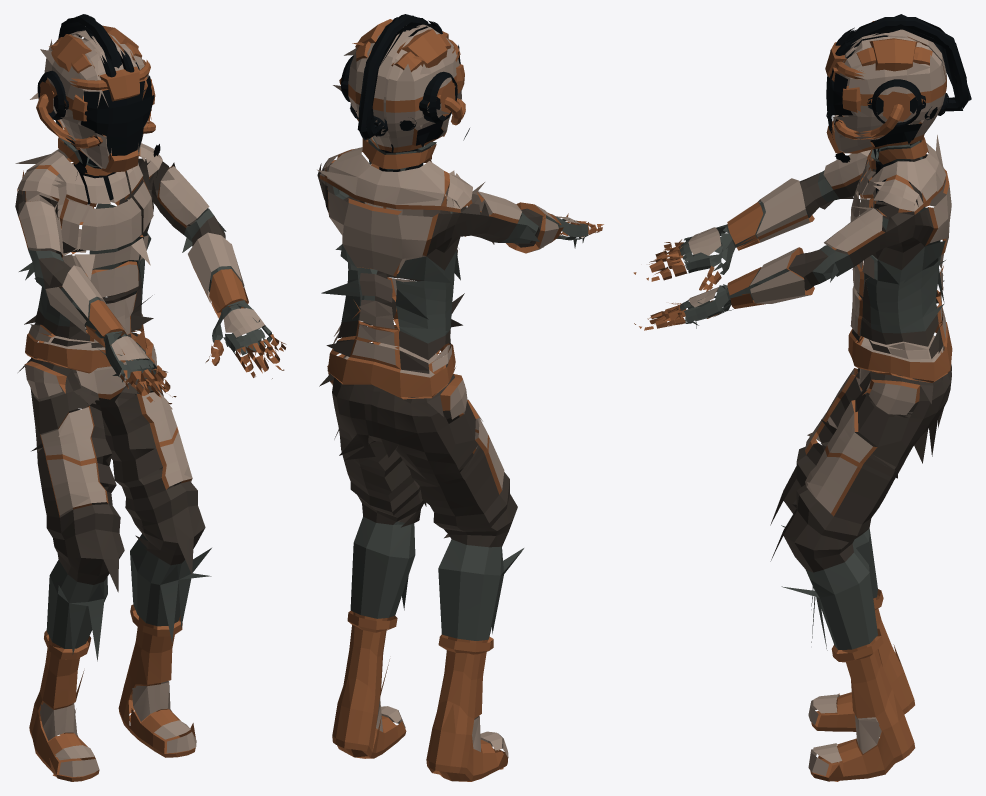
The model's file is frozen-8.glb.
3 renders of one model, left to right at view 1: azimuth 30°, elevation 25°; view 2: azimuth 150°, elevation 25°; view 3: azimuth 270°, elevation 25°, orthographic. The views are drawn at different scales.
Visible parts, largest first — view 1: near, far; view 2: near, far; view 3: near, far.
Boxes of the visible parts, box(x1,y1,x2,y2) form: near: box(15, 14, 286, 781); far: box(15, 16, 244, 776); near: box(317, 14, 603, 781); far: box(317, 17, 558, 781); near: box(633, 17, 971, 781); far: box(732, 14, 968, 781).
Bounding box in the file's own units: 0.5541 × 1.9 × 0.7903.
Materials: 1 (1 with a texture image).
